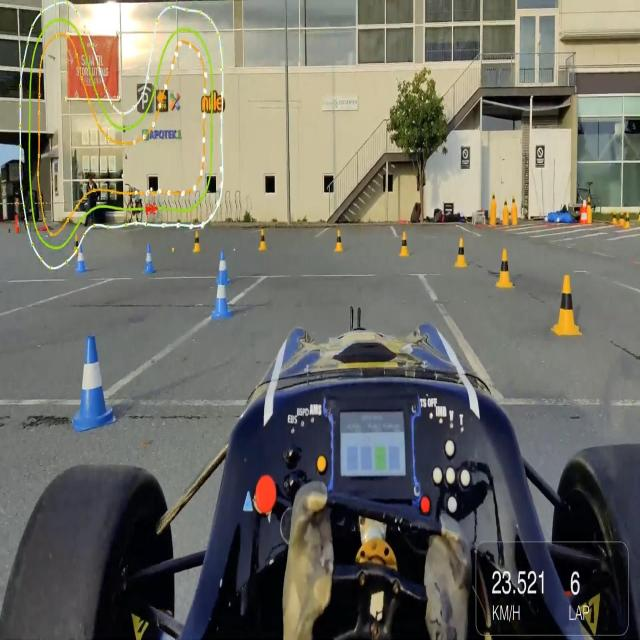blue_cone: (73, 333, 117, 435), (212, 271, 232, 320), (217, 250, 231, 287), (143, 245, 156, 275), (76, 243, 88, 273)
yellow_cone: (551, 274, 582, 336), (497, 249, 514, 289), (457, 237, 468, 268), (400, 230, 410, 258), (192, 229, 202, 253), (336, 230, 344, 253), (260, 229, 267, 252)
